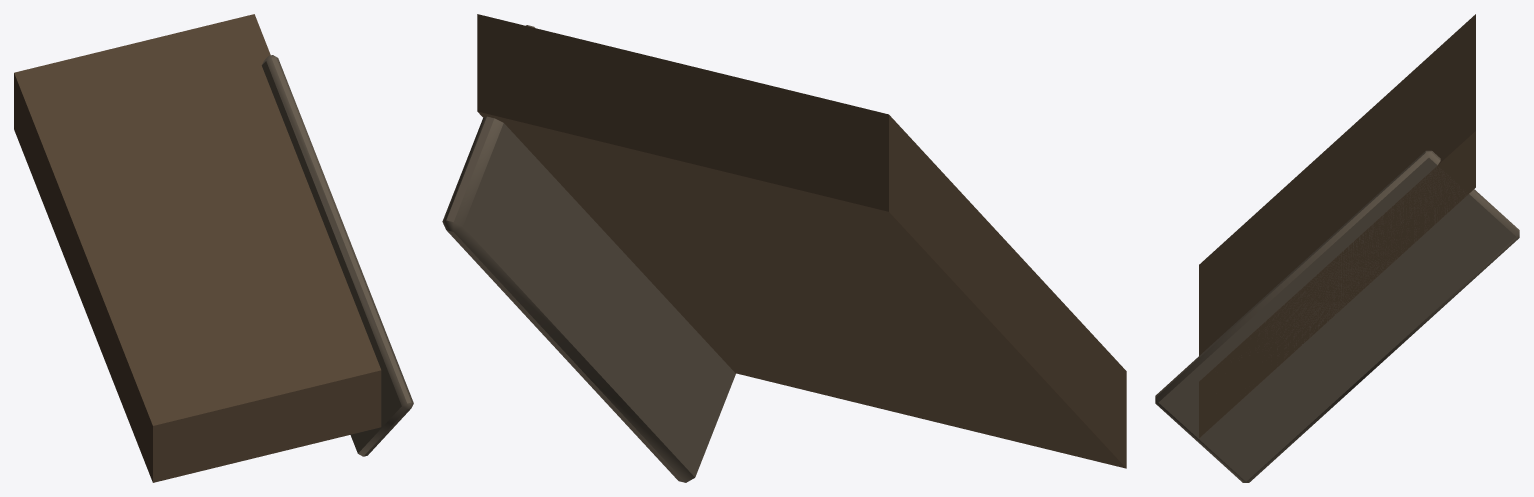
The model's file is dach_ecke_r.glb.
The picture shows the model from 3 angles, left to right: view 1: azimuth 30°, elevation 25°; view 2: azimuth 150°, elevation 25°; view 3: azimuth 270°, elevation 25°; orthographic projection. The views are drawn at different scales.
Parts seen in each view (by area): view 1: dach_ecke_r; view 2: dach_ecke_r; view 3: dach_ecke_r.
Boxes of the visible parts, x1,y1,x2,y2 form: dach_ecke_r: [14, 14, 413, 482]; dach_ecke_r: [442, 14, 1126, 482]; dach_ecke_r: [1155, 14, 1519, 482].
Bounding box in the file's own units: 0.5 × 0.7058 × 0.6584.
